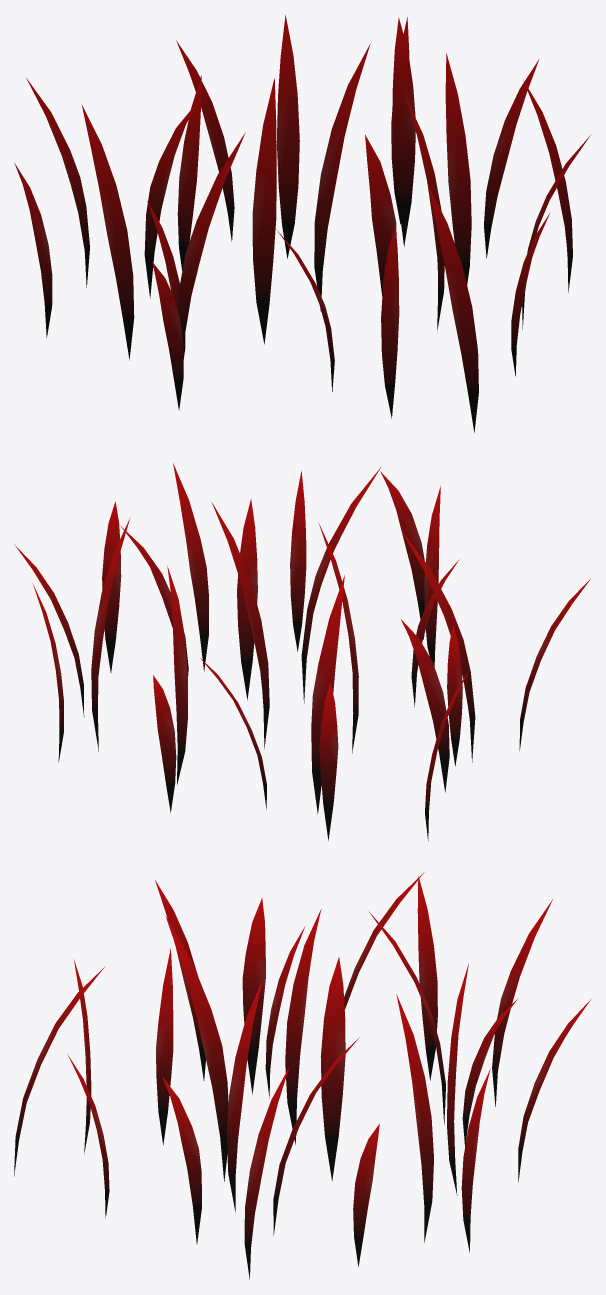
Rendered from Grass.fbx.
3 renders of one model, top to bottom at view 1: azimuth 30°, elevation 25°; view 2: azimuth 150°, elevation 25°; view 3: azimuth 270°, elevation 25°, orthographic. The views are drawn at different scales.
Parts seen in each view (by area): view 1: Grass; view 2: Grass; view 3: Grass.
Part boxes in pixels (box(x1,y1,x2,y2)): Grass: box(14, 15, 591, 432); Grass: box(14, 463, 590, 841); Grass: box(14, 872, 590, 1279).
Size of the model in its own units: 2.74 by 2.75 by 1.36.
